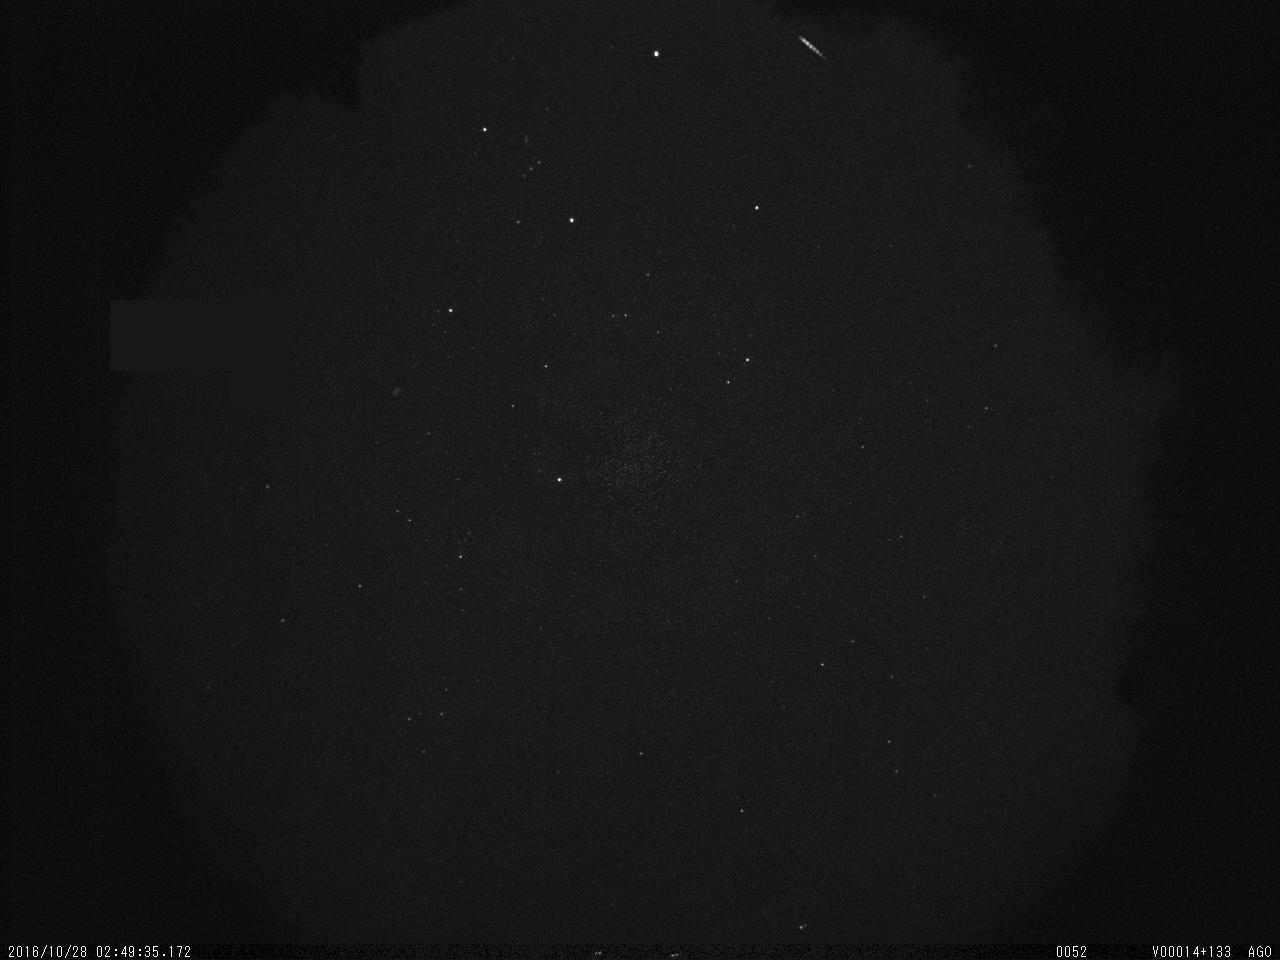Meteor: (797, 33, 829, 61)
